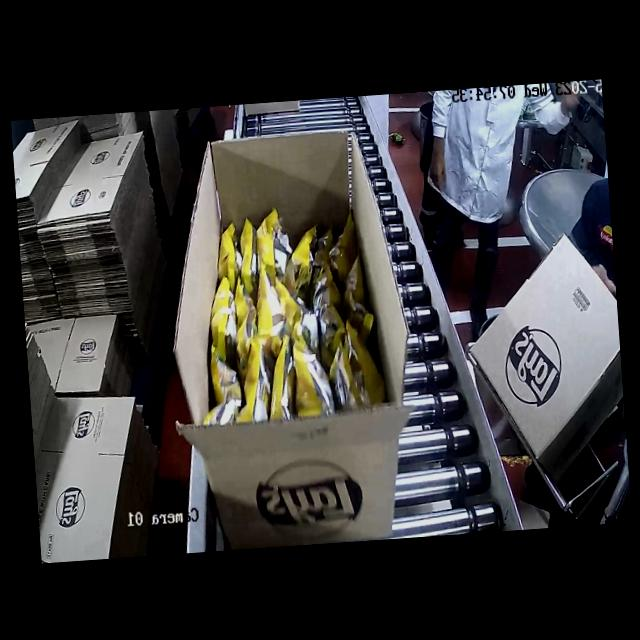salted: (198, 188, 380, 444)
